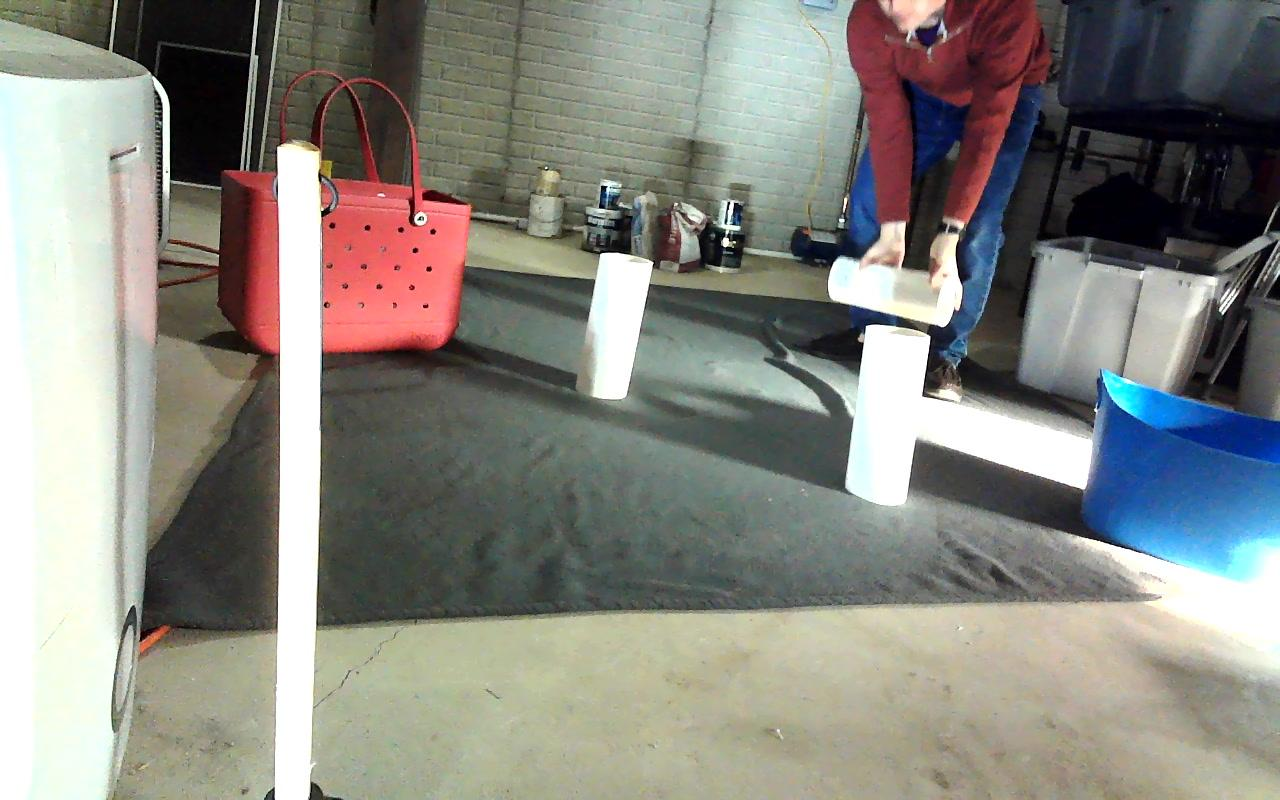coral: (845, 323, 928, 505), (585, 252, 650, 399), (830, 260, 958, 327)
